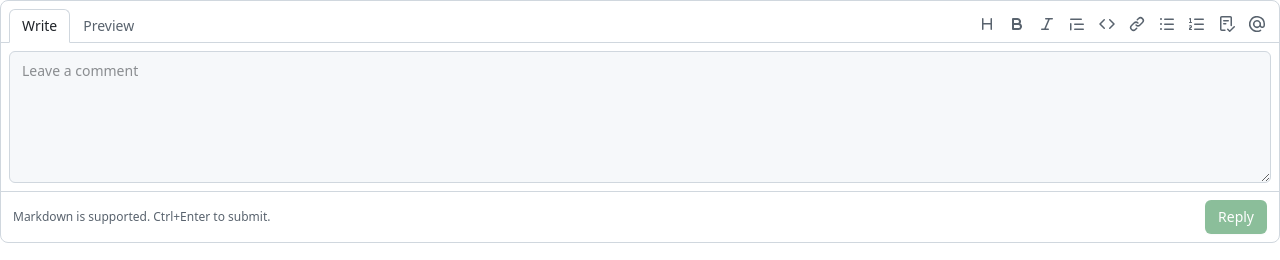
Test case: CommentEditor › formatting tools › wraps the selection with inline markers and reselects the text
Type "make this bold" into the text box at point(640, 117), box [9,51,1271,183]
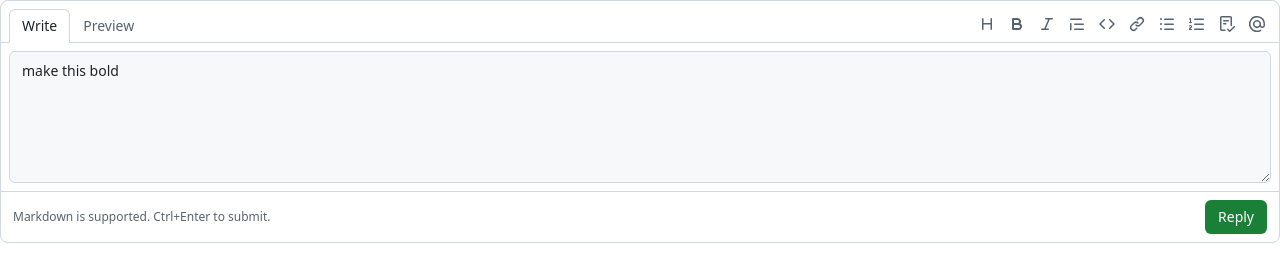
Click the button named "Bold (Ctrl+B)" at point(1017, 24), box [1003,10,1031,38]
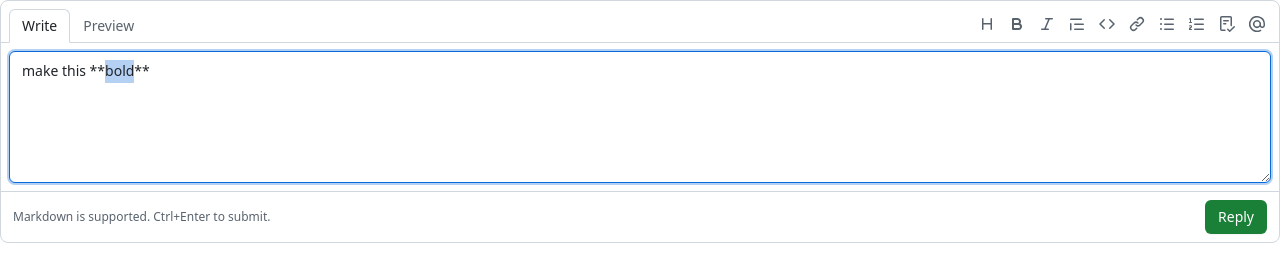
Result: the text box holds "make this **bold**" at [9,51,1271,183]
